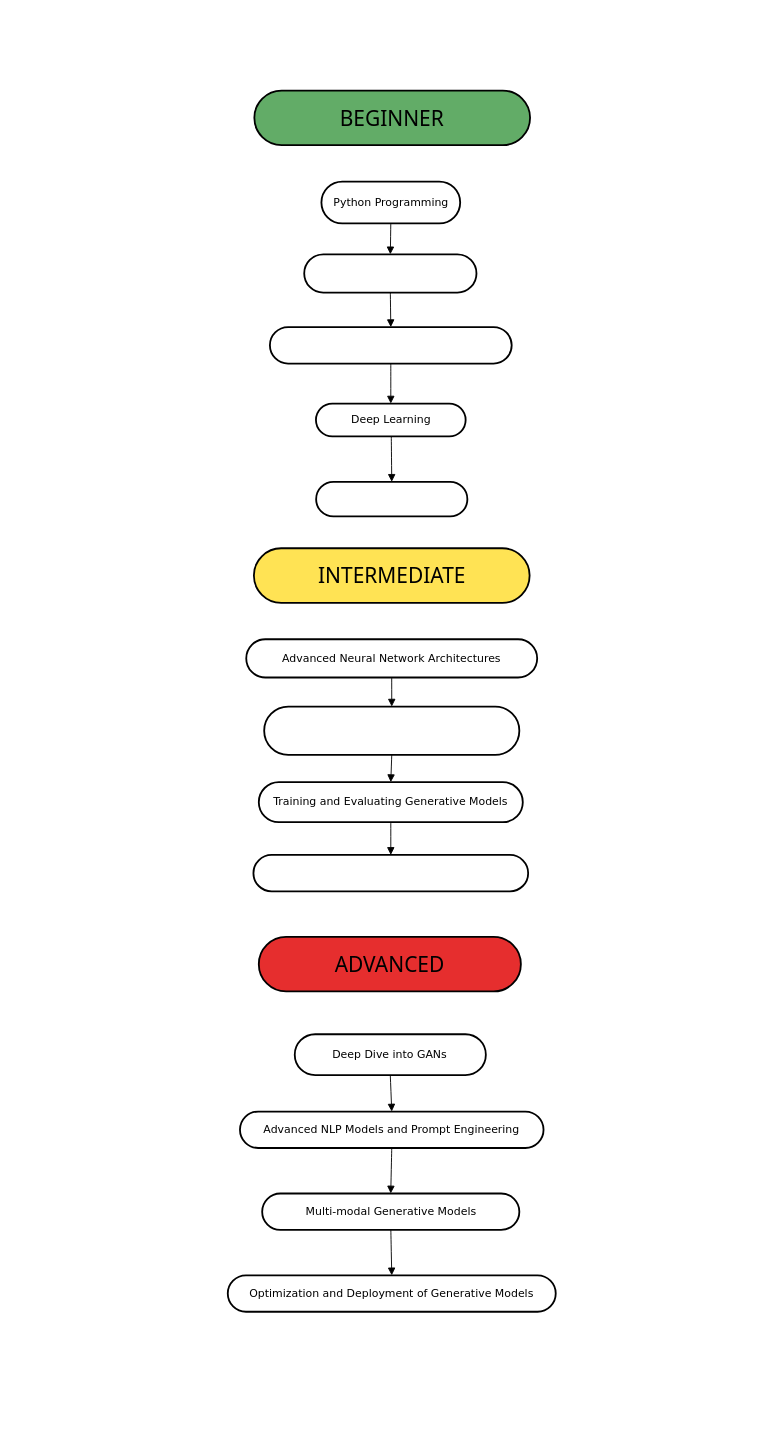
The diagram is 780 pixels wide and 1436 high, and some of its shapes have lost their labels. Here are the shapes that lost their labels. From the top down, the box of each, then its label:
(303, 253, 477, 293): Machine Learning Basics
(269, 326, 512, 364): Introduction to AI and Generative AI
(315, 480, 468, 517): Transformers and NLP
(263, 705, 520, 755): Data Collection and Preprocessing for Generative Models
(252, 854, 529, 892): Working with Pre-trained Models and APIs
